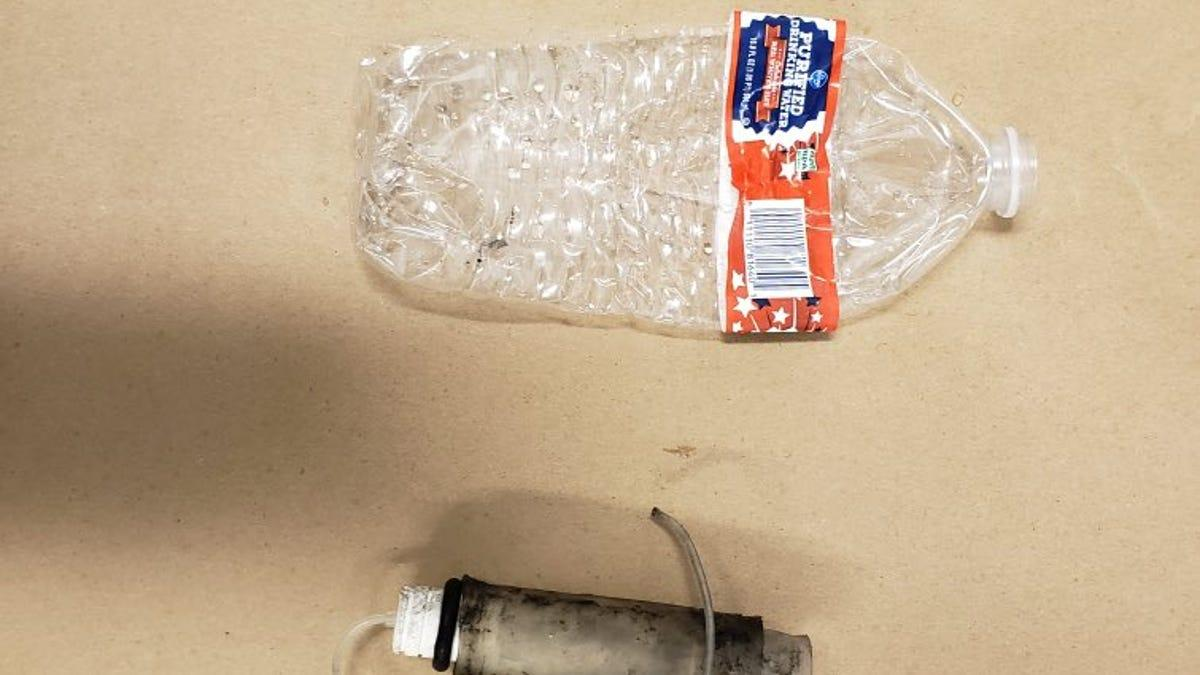bottle: (342, 15, 1123, 418)
